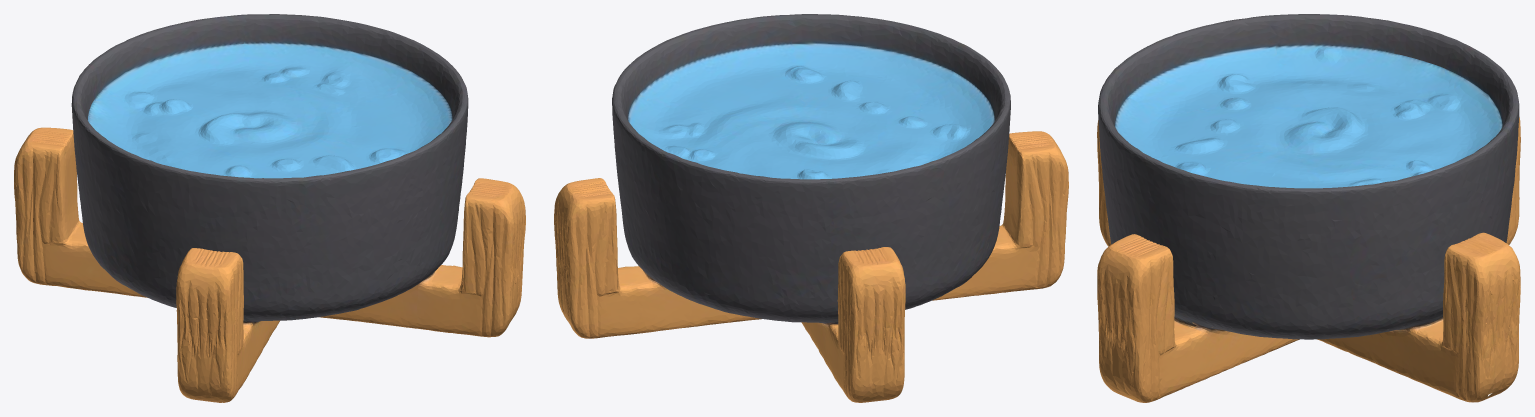
The model's file is bowl_water_4.glb.
3 views of the same model, side by side, from view 1: azimuth 30°, elevation 25°; view 2: azimuth 150°, elevation 25°; view 3: azimuth 270°, elevation 25° (orthographic). The views are drawn at different scales.
Visible parts, largest first — view 1: tripo_node_173aa351-c35b-4f58-93cf-f7c9742e9113; view 2: tripo_node_173aa351-c35b-4f58-93cf-f7c9742e9113; view 3: tripo_node_173aa351-c35b-4f58-93cf-f7c9742e9113.
Boxes of the visible parts, box(x1,y1,x2,y2) form: tripo_node_173aa351-c35b-4f58-93cf-f7c9742e9113: box(14, 14, 525, 402); tripo_node_173aa351-c35b-4f58-93cf-f7c9742e9113: box(554, 14, 1068, 402); tripo_node_173aa351-c35b-4f58-93cf-f7c9742e9113: box(1097, 14, 1520, 402).
Bounding box in the file's own units: 0.9989 × 0.5713 × 0.9948.
Materials: 1 (1 with a texture image).
